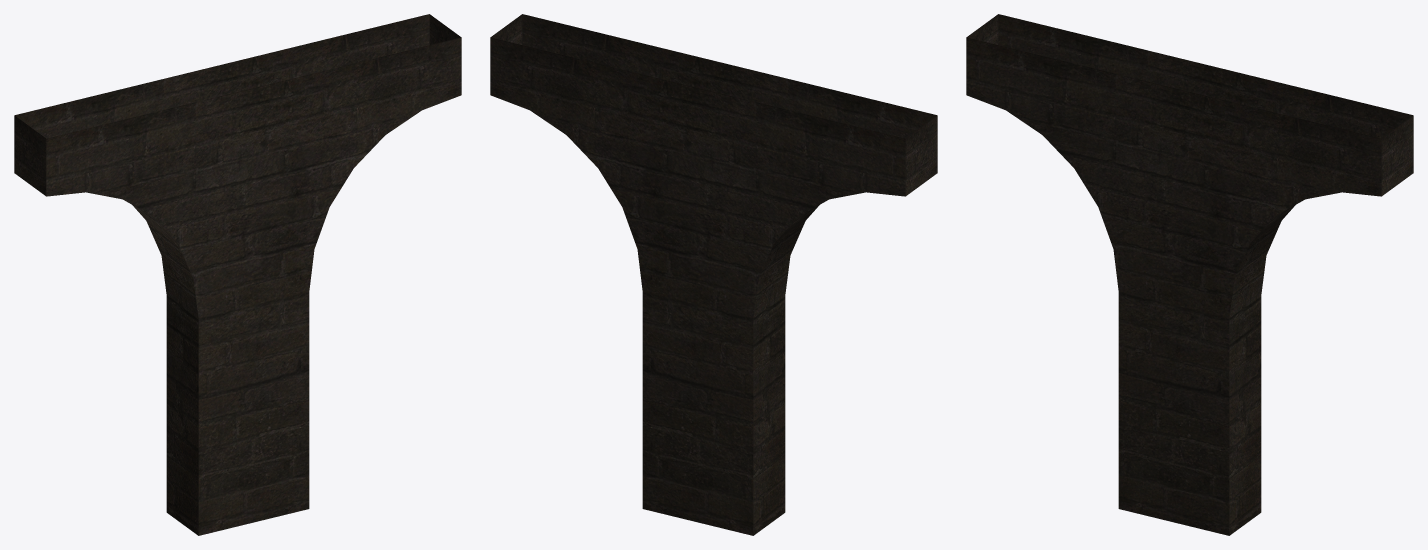
The model's file is half_arc_pillar_2_wall_1_plain.obj.
3 views of the same model, side by side, from view 1: azimuth 30°, elevation 25°; view 2: azimuth 150°, elevation 25°; view 3: azimuth 330°, elevation 25° (orthographic).
Visible parts, largest first — view 1: half_arc_pillar_2_wall_1_plain; view 2: half_arc_pillar_2_wall_1_plain; view 3: half_arc_pillar_2_wall_1_plain.
Part boxes in pixels (x1=…): half_arc_pillar_2_wall_1_plain: x1=14, y1=14, x2=461, y2=535; half_arc_pillar_2_wall_1_plain: x1=490, y1=14, x2=937, y2=535; half_arc_pillar_2_wall_1_plain: x1=966, y1=14, x2=1413, y2=535.
Size of the model in its own units: 3 by 3 by 0.4.
